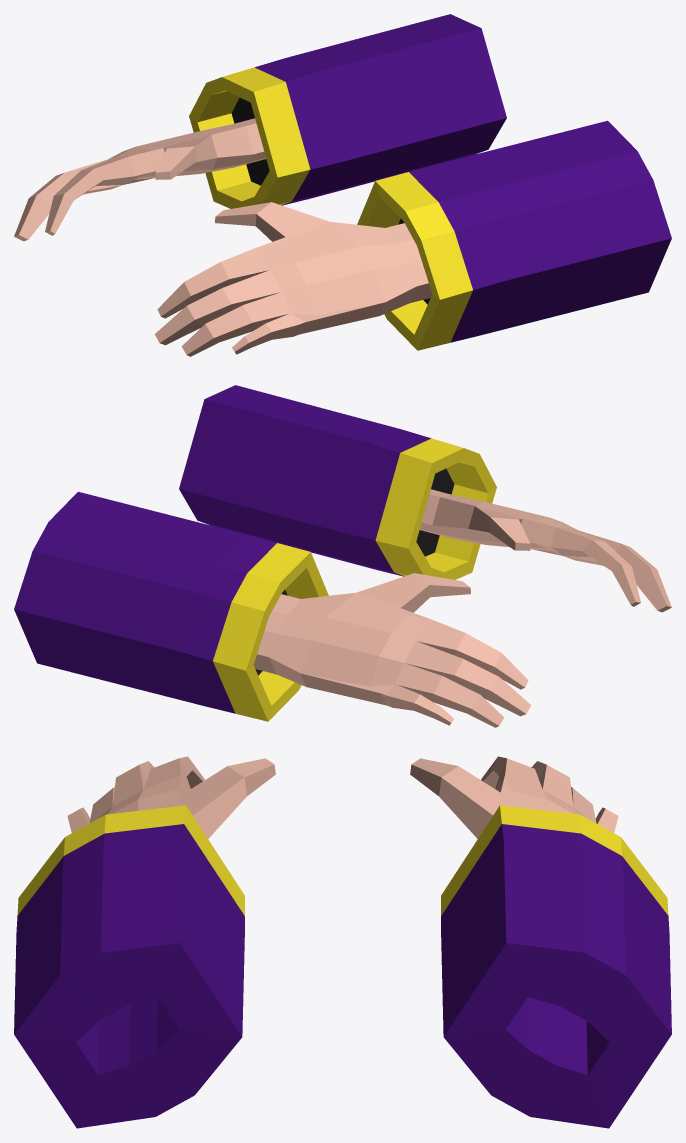
The model's file is RukeCarobnjaka.fbx.
3 views of the same model, one above another, from view 1: azimuth 30°, elevation 25°; view 2: azimuth 150°, elevation 25°; view 3: azimuth 270°, elevation 25° (orthographic). The views are drawn at different scales.
Parts seen in each view (by area): view 1: Lijeva ruka, Desna ruka; view 2: Desna ruka, Lijeva ruka; view 3: Lijeva ruka, Desna ruka.
Boxes of the visible parts, <box> form: Lijeva ruka: <box>154,120,671,356</box>; Desna ruka: <box>14,14,506,241</box>; Desna ruka: <box>14,491,531,727</box>; Lijeva ruka: <box>179,385,671,612</box>; Lijeva ruka: <box>14,756,275,1128</box>; Desna ruka: <box>410,756,671,1128</box>.
Size of the model in its own units: 1426 by 433 by 1369.
2 materials, 2 textured.
